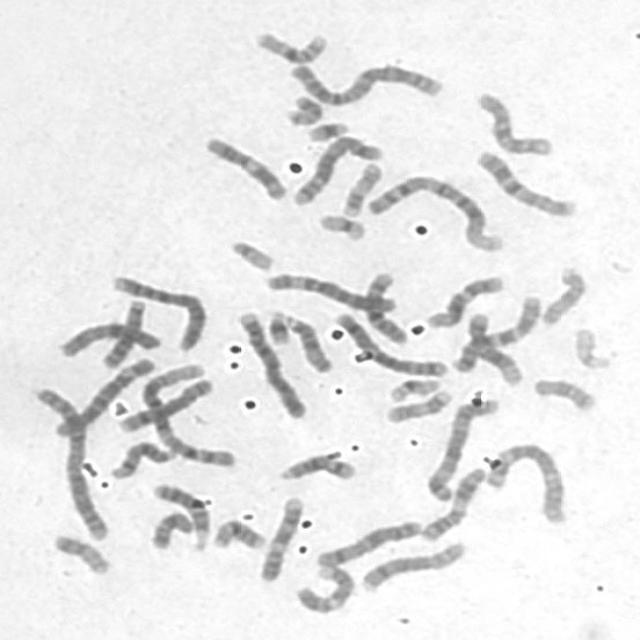A1: (359, 168, 506, 254), (134, 358, 240, 470)
A2: (26, 378, 114, 542), (283, 55, 447, 107)
A3: (420, 391, 502, 503), (480, 436, 572, 525)
B4: (231, 303, 312, 420), (104, 268, 210, 352)
B5: (328, 305, 451, 379), (286, 128, 386, 207)
C10: (470, 85, 558, 157), (358, 265, 412, 346)
C11: (197, 129, 291, 202), (414, 461, 490, 544)
C12: (460, 306, 528, 388), (420, 268, 508, 329)
C6: (47, 350, 159, 439), (260, 266, 399, 314)
C7: (445, 288, 545, 374), (468, 144, 581, 219)
C8: (354, 535, 469, 594), (112, 372, 217, 434)
C9: (253, 489, 307, 584), (289, 558, 358, 615)
D13: (146, 476, 215, 553), (96, 294, 148, 370)
D14: (103, 434, 180, 481), (272, 446, 360, 483)
D15: (277, 307, 336, 374), (534, 259, 592, 327)
E16: (248, 23, 333, 65), (206, 513, 269, 551)
E17: (379, 382, 456, 424), (335, 156, 385, 218)
E18: (526, 370, 600, 412), (144, 506, 196, 551)
F19: (382, 370, 446, 404), (312, 207, 370, 242)
F20: (45, 527, 114, 576), (280, 89, 326, 127)
G21: (300, 114, 352, 142), (261, 304, 293, 346)
G22: (568, 321, 615, 371), (224, 234, 278, 272)
X: (310, 514, 426, 569), (51, 314, 167, 358)
